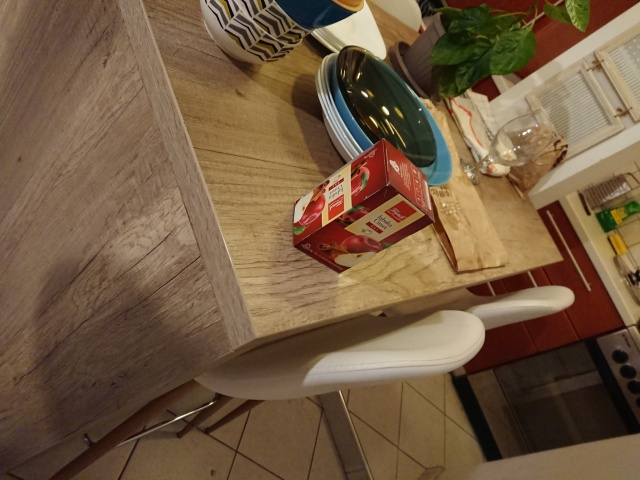Franck Apple Cinnamon Tea 60g: (290, 136, 438, 276)
